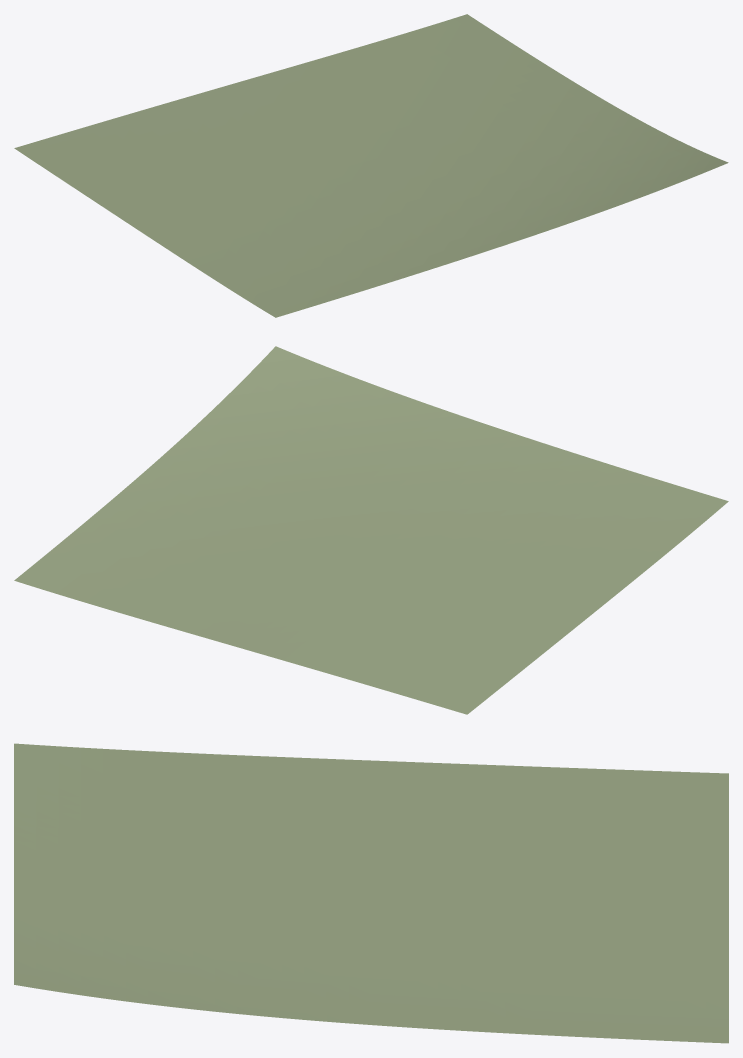
The model's file is expanse-26-26.glb.
3 renders of one model, top to bottom at view 1: azimuth 30°, elevation 25°; view 2: azimuth 150°, elevation 25°; view 3: azimuth 270°, elevation 25°, orthographic. The views are drawn at different scales.
Parts seen in each view (by area): view 1: expanse-26-26; view 2: expanse-26-26; view 3: expanse-26-26.
Part boxes in pixels (<box>): expanse-26-26: <box>14,14,728,317</box>; expanse-26-26: <box>14,346,728,714</box>; expanse-26-26: <box>14,743,728,1043</box>.
Bounding box in the file's own units: 256 × 35.88 × 256.
